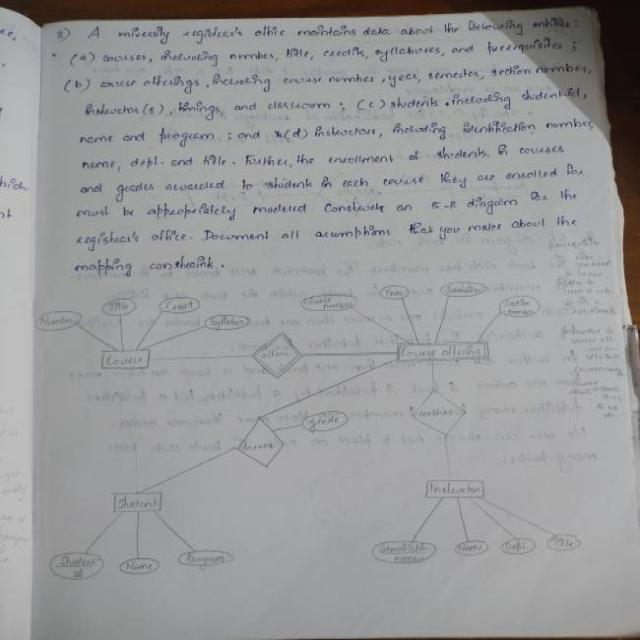Figure Detection - v3 Dataset Version2: (20, 273, 605, 595)
